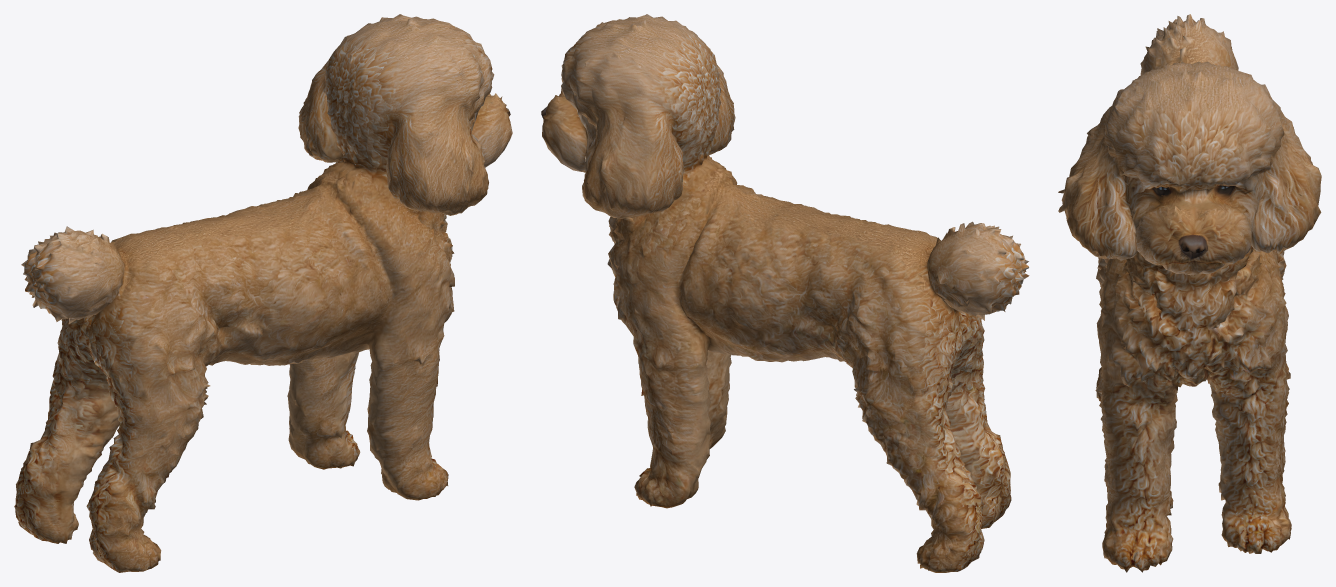
File: poodle.glb
The picture shows the model from 3 angles, left to right: view 1: azimuth 30°, elevation 25°; view 2: azimuth 150°, elevation 25°; view 3: azimuth 270°, elevation 25°; orthographic projection. The views are drawn at different scales.
Visible parts, largest first — view 1: tripo_node_3c458be8-1a32-4ade-bed7-0fec32367cad; view 2: tripo_node_3c458be8-1a32-4ade-bed7-0fec32367cad; view 3: tripo_node_3c458be8-1a32-4ade-bed7-0fec32367cad.
Part boxes in pixels (left/top/right/bottom): tripo_node_3c458be8-1a32-4ade-bed7-0fec32367cad: left=14, top=14, right=512, bottom=572; tripo_node_3c458be8-1a32-4ade-bed7-0fec32367cad: left=541, top=14, right=1029, bottom=572; tripo_node_3c458be8-1a32-4ade-bed7-0fec32367cad: left=1058, top=14, right=1321, bottom=572.
Size of the model in its own units: 1 by 0.8899 by 0.4214.
1 material, 1 textured.
